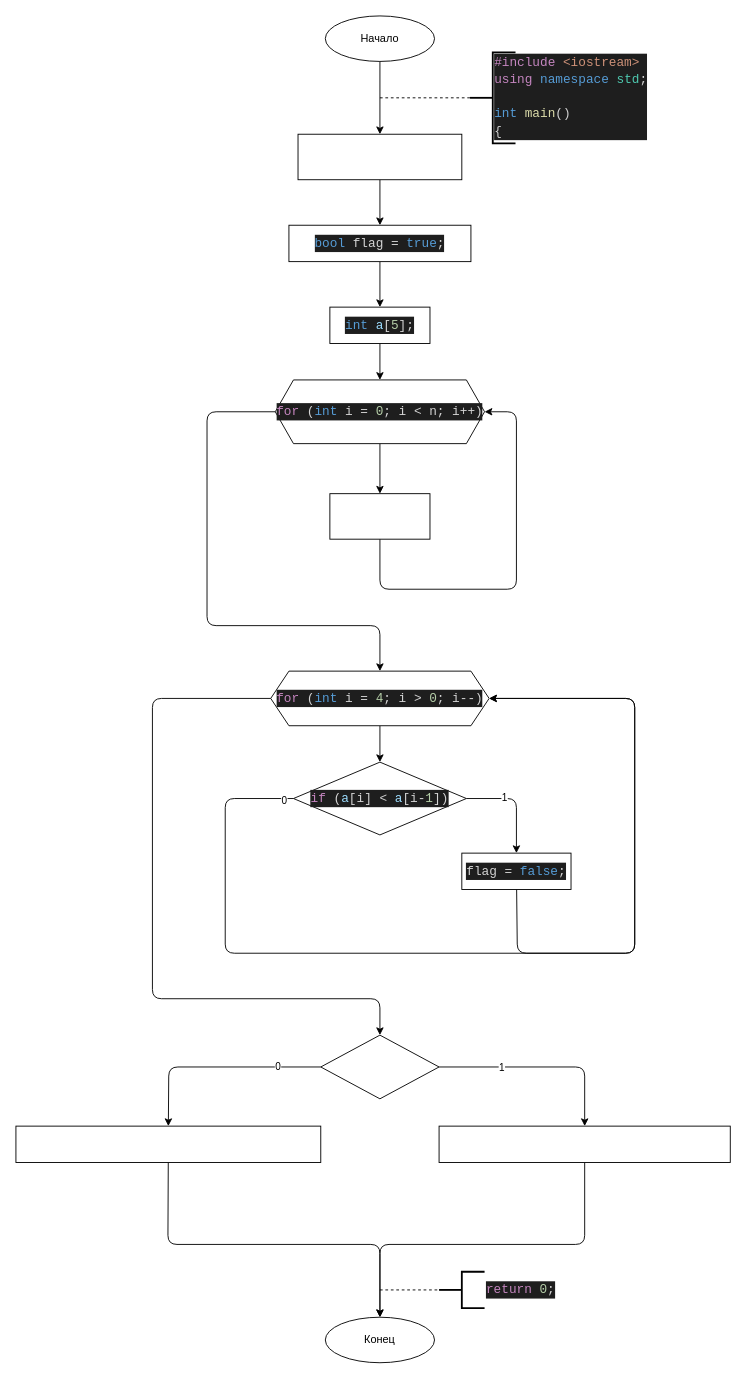
This 746x1379 diagram has some shape labels left out. Here are the shapes that lost their labels. From the top down, the centre of each, then its label:
(379,156): setlocale (LC_ALL, "Russian" );
(379,516): cin >> a [i];
(379,1066): if (flag)
(168,1144): cout << "Массив не упорядочен!" << endl;
(584,1144): cout << "Массив упорядочен!" << endl;
